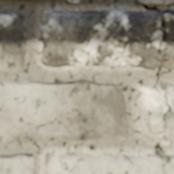brick: (0, 80, 126, 142), (0, 14, 26, 72), (0, 153, 33, 173), (137, 0, 173, 4), (68, 0, 81, 2)
broken_brick: (40, 10, 160, 71), (44, 150, 173, 173), (136, 83, 165, 142), (160, 7, 173, 70), (163, 110, 173, 141), (168, 84, 173, 96)
crack: (141, 2, 173, 171)
